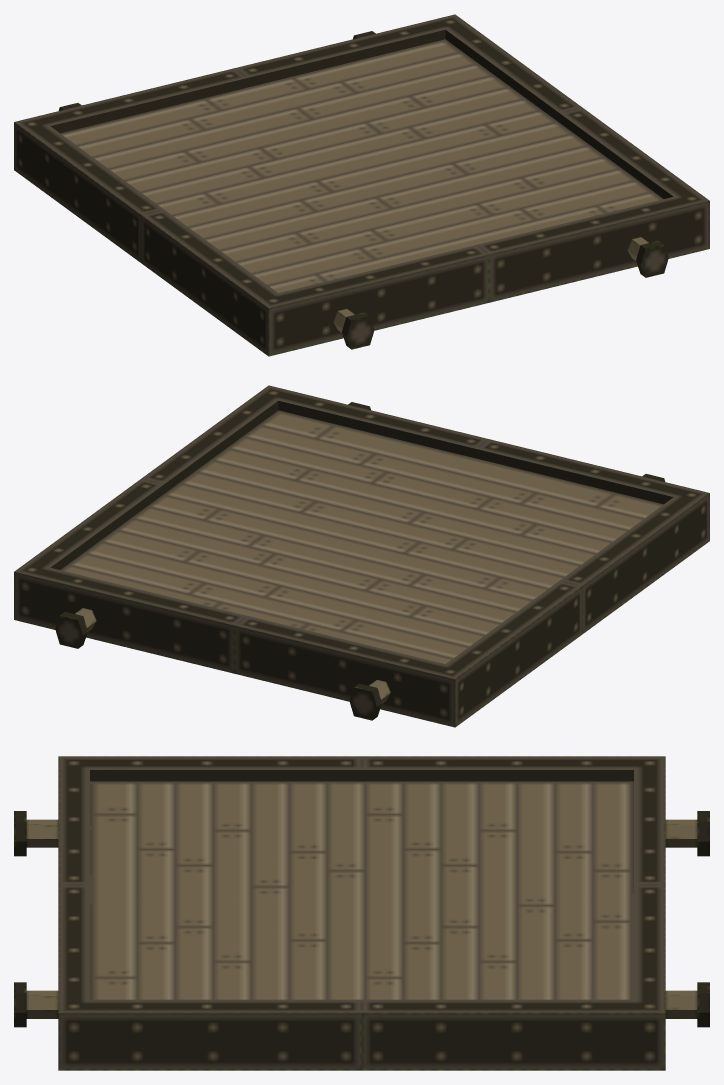
Rendered from Platform.fbx.
3 views of the same model, one above another, from view 1: azimuth 30°, elevation 25°; view 2: azimuth 150°, elevation 25°; view 3: azimuth 270°, elevation 25° (orthographic). The views are drawn at different scales.
Parts seen in each view (by area): view 1: Platform; view 2: Platform; view 3: Platform.
Part boxes in pixels (x1,y1,x2,y2): Platform: [14, 14, 709, 356]; Platform: [14, 385, 709, 727]; Platform: [14, 756, 709, 1070].
Bounding box in the file's own units: 300 × 31.25 × 344.
